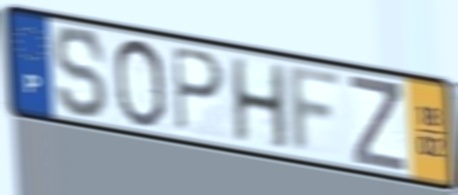F: (286, 62, 346, 159)
H: (228, 55, 292, 154)
O: (111, 37, 168, 129)
P: (169, 43, 228, 135)
S: (52, 24, 110, 121)
Z: (347, 71, 409, 175)
